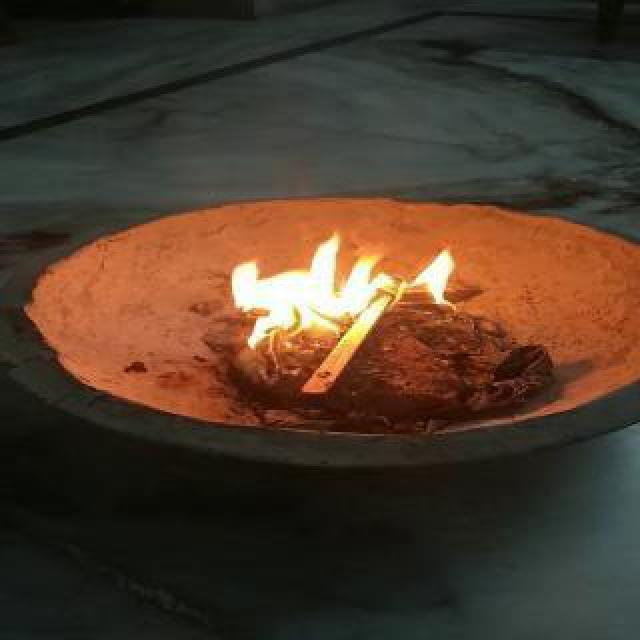fire: (223, 229, 466, 350)
